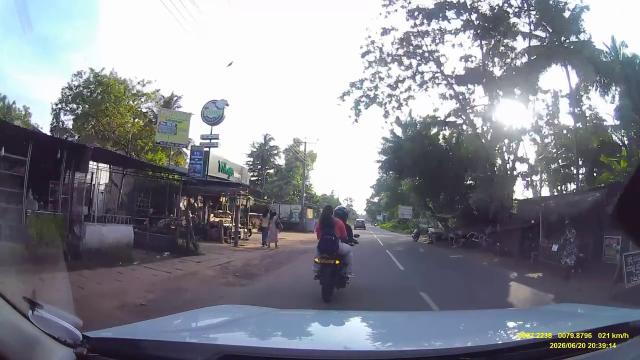no helmet: (324, 204, 335, 218)
